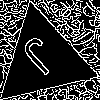J: (18, 34, 68, 85)
